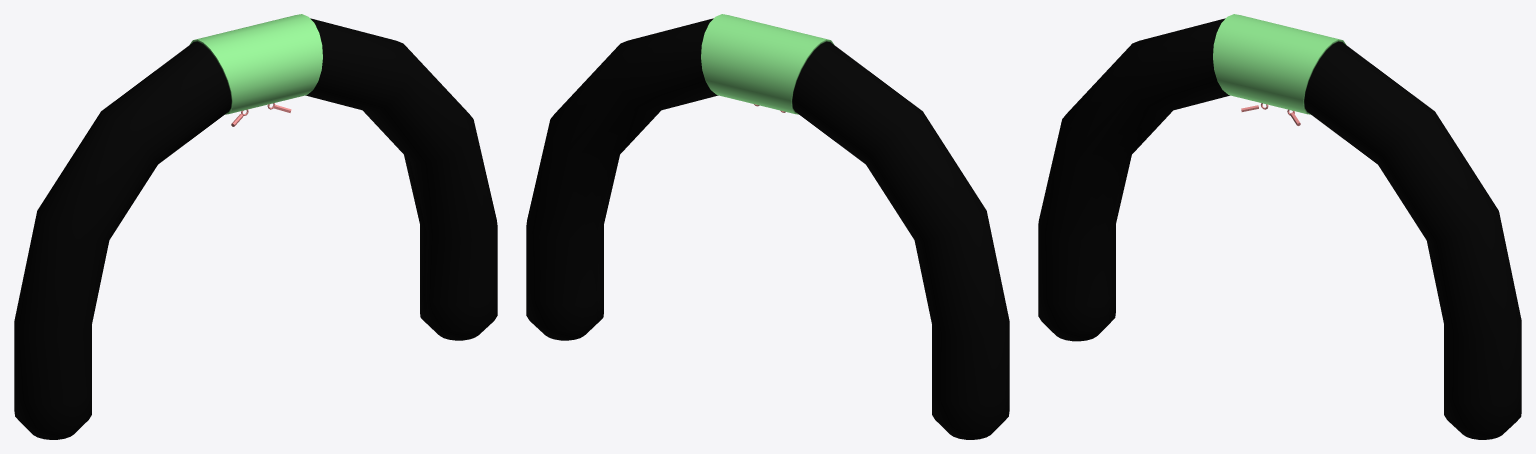
The model's file is SM_ENV_LKNVLD_Event_HL_TorusBalloon_A.gltf.
The picture shows the model from 3 angles, left to right: view 1: azimuth 30°, elevation 25°; view 2: azimuth 150°, elevation 25°; view 3: azimuth 330°, elevation 25°; orthographic projection.
Visible parts, largest first — view 1: SM_ENV_LKNVLD_Event_HL_TorusBalloon_A; view 2: SM_ENV_LKNVLD_Event_HL_TorusBalloon_A; view 3: SM_ENV_LKNVLD_Event_HL_TorusBalloon_A.
Boxes of the visible parts, box(x1,y1,x2,y2) form: SM_ENV_LKNVLD_Event_HL_TorusBalloon_A: box(14, 14, 497, 439); SM_ENV_LKNVLD_Event_HL_TorusBalloon_A: box(526, 14, 1009, 439); SM_ENV_LKNVLD_Event_HL_TorusBalloon_A: box(1038, 14, 1521, 439).
Size of the model in its own units: 18.14 by 12.92 by 2.74.
